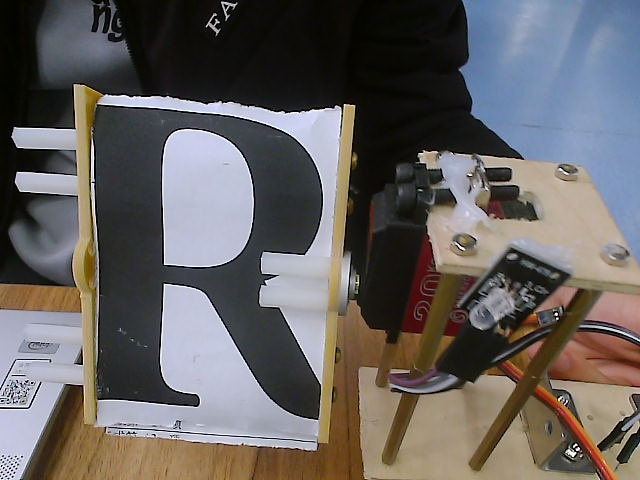R: (11, 75, 371, 468)
